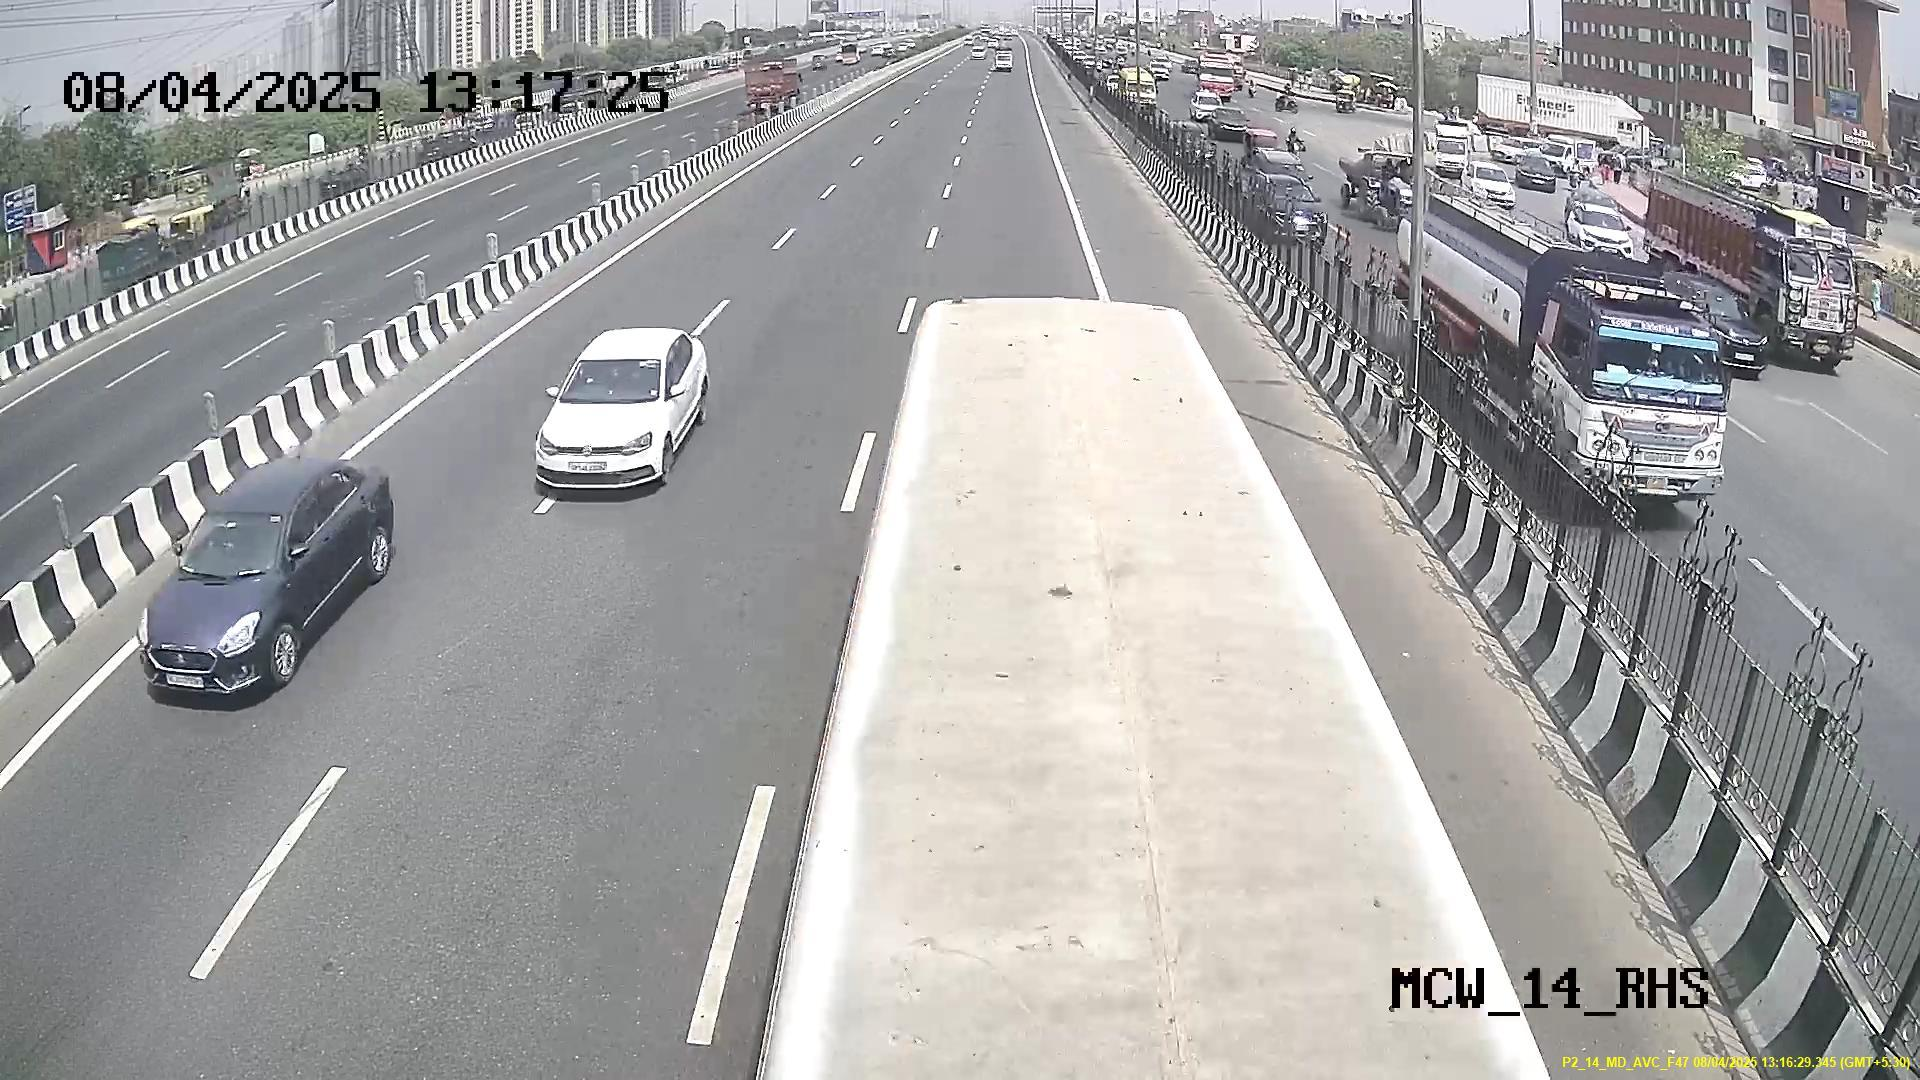car: (131, 476, 323, 703), (529, 336, 687, 496)
